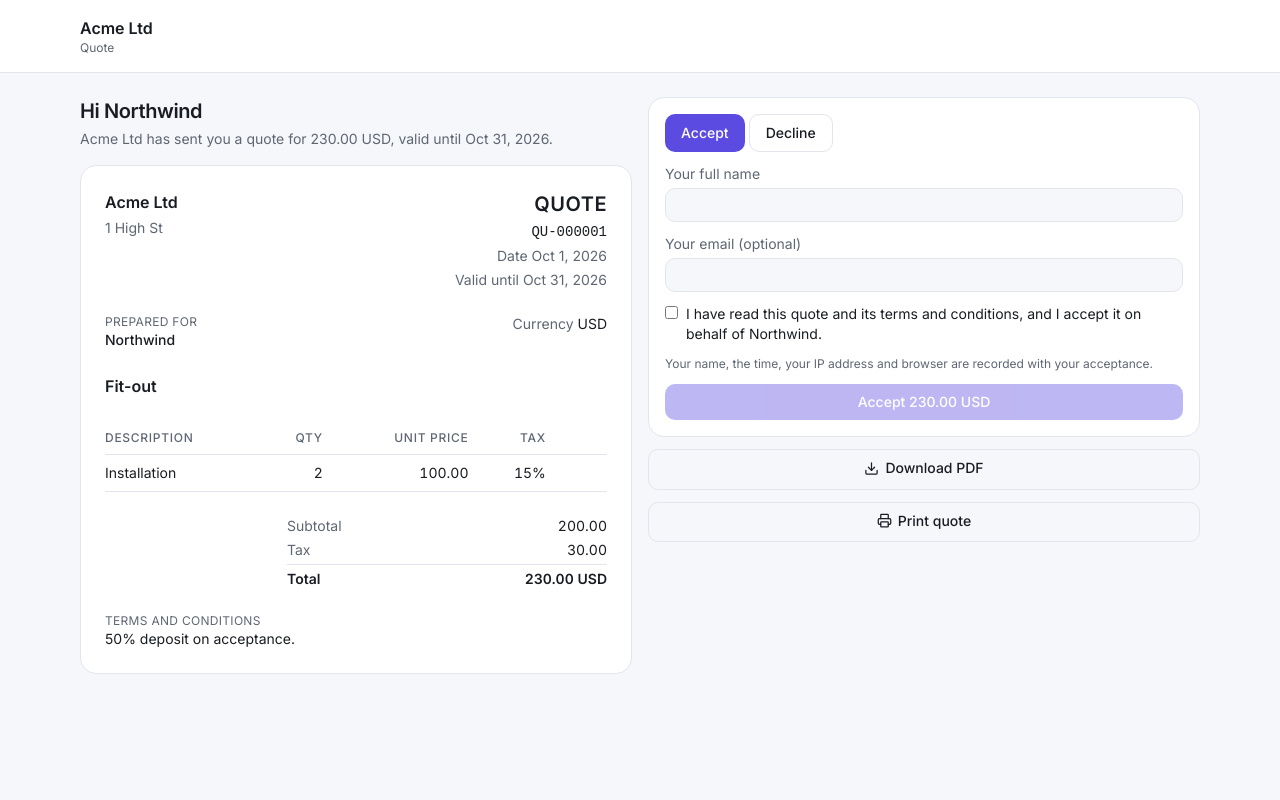
Test: PublicQuotePage › can decline with a reason
The image size is (1280, 800).
Click the tab "Decline". click: [791, 133]
box: [749, 114, 833, 152]
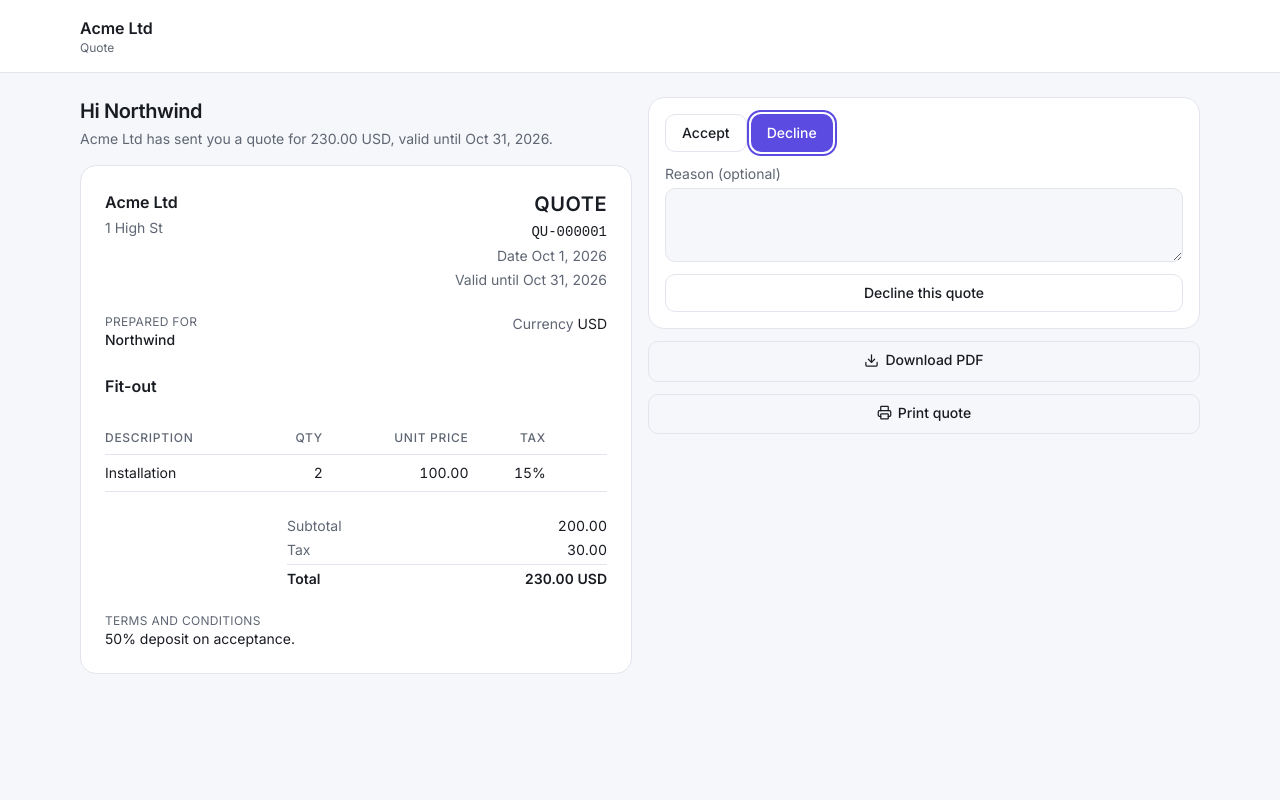
Type "Over budget" into the text box labelled "Reason (optional)". click: [924, 225]
box: [665, 188, 1183, 262]
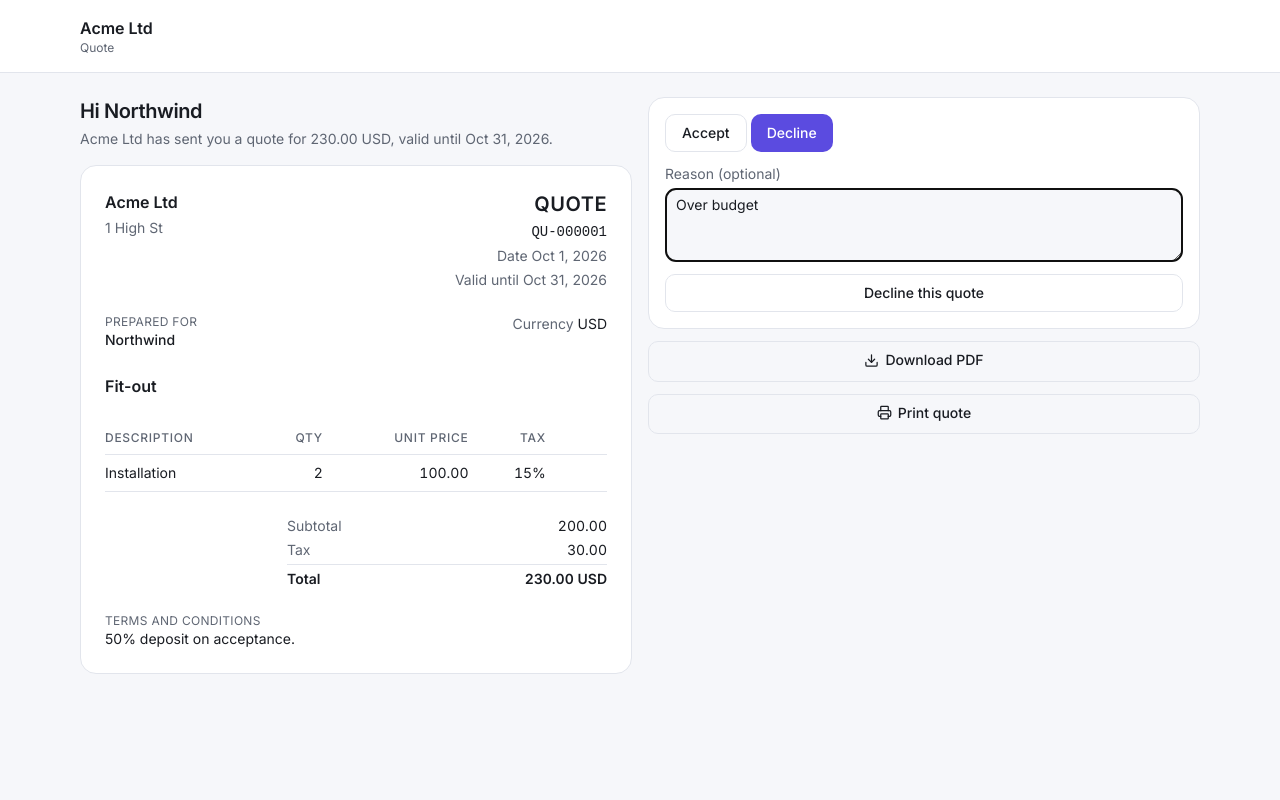
Click the button "Decline this quote". click: [924, 293]
box: [665, 274, 1183, 312]
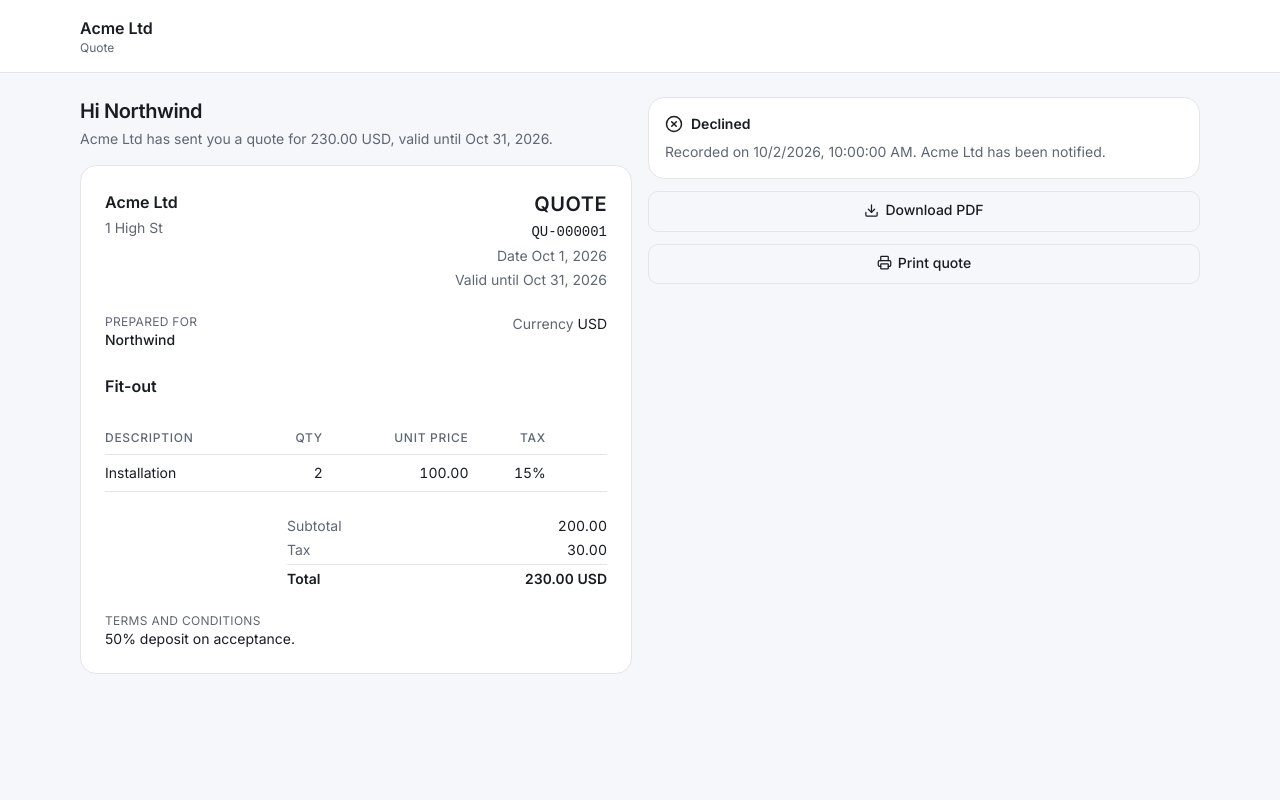
Check: the text "Declined" is shown, box [665, 115, 750, 133]
